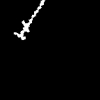double_crochet: (14, 0, 44, 39)
